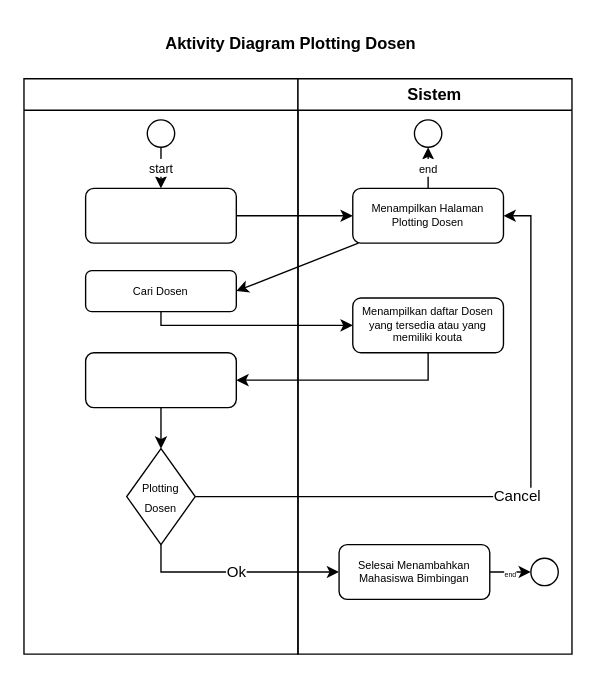
Image size: 596x678. Some labels were removed from this diagram. The shapes that lost their labels are listed below. From the top down, each one's box as (x1, y1, x2, y2) in pixels, then its label:
(84, 187, 236, 243): Membuka Fitur Plotting Dosen Pada SIdebar
(84, 351, 236, 408): Pilih Mahasiswa yang mau di Plotting sesuai dosen yang tersedia
(23, 77, 298, 654): Koordinator
